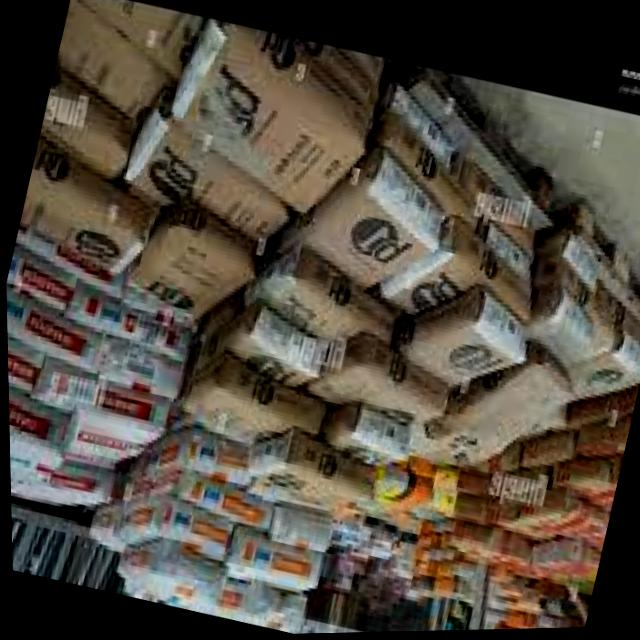cement_bag: (176, 25, 383, 221), (119, 110, 293, 256), (304, 143, 451, 303), (17, 132, 155, 282), (432, 356, 578, 474), (126, 194, 255, 327), (395, 280, 532, 393), (188, 349, 329, 452), (54, 0, 168, 126), (309, 334, 448, 427), (39, 355, 168, 441), (254, 435, 375, 519), (5, 280, 107, 377), (116, 534, 224, 613), (460, 158, 538, 264), (156, 419, 254, 495), (119, 495, 234, 559), (91, 336, 184, 406), (534, 287, 612, 370), (230, 528, 320, 598), (330, 406, 411, 474), (7, 382, 75, 462), (271, 501, 334, 556), (507, 487, 562, 537), (518, 429, 571, 472), (575, 419, 627, 460), (554, 456, 603, 495), (458, 519, 498, 563), (533, 536, 574, 578), (454, 472, 494, 502), (409, 574, 424, 598)
